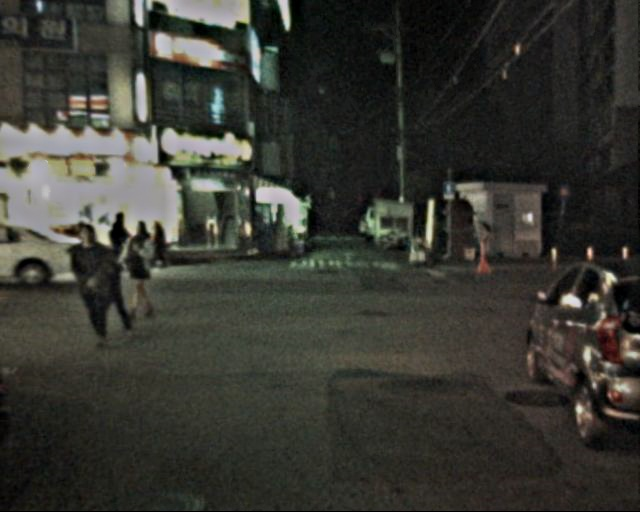person: (69, 216, 119, 345), (121, 217, 165, 319), (469, 212, 490, 265)
